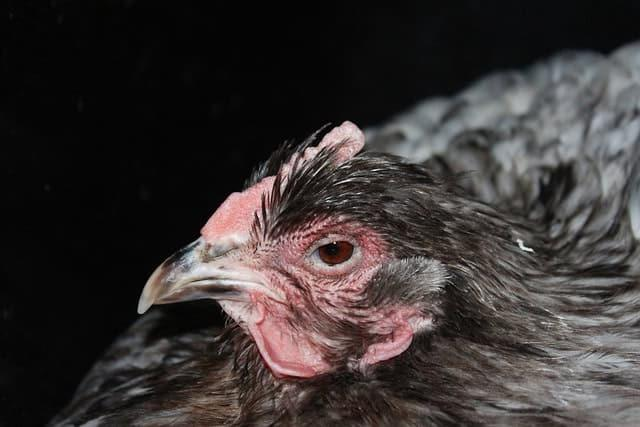AbNormal: (199, 122, 366, 259)
